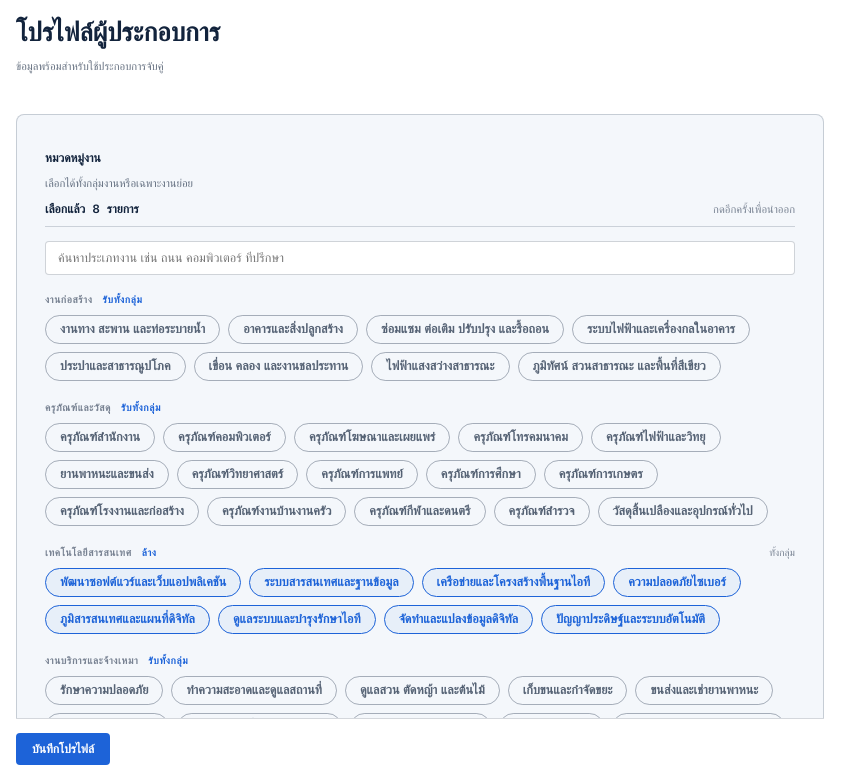
Test: VendorProfileView › does not put a validator's own English wording in front of a Thai reader
Click the button "บันทึกโปรไฟล์": point(63, 749) [16,733,110,765]
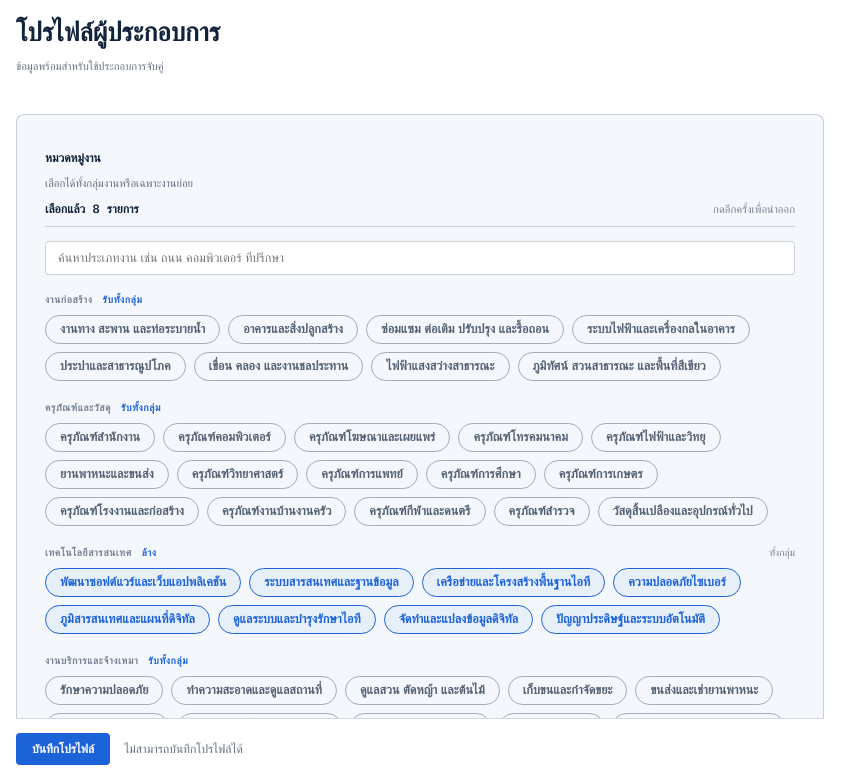
Result: the text "ไม่สามารถบันทึกโปรไฟล์ได้" is shown at [124,742,243,756]
